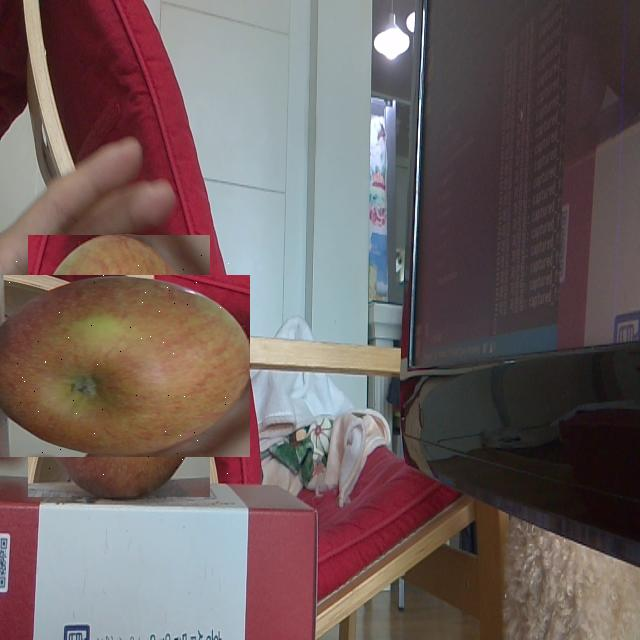apple: (8, 255, 230, 477)
